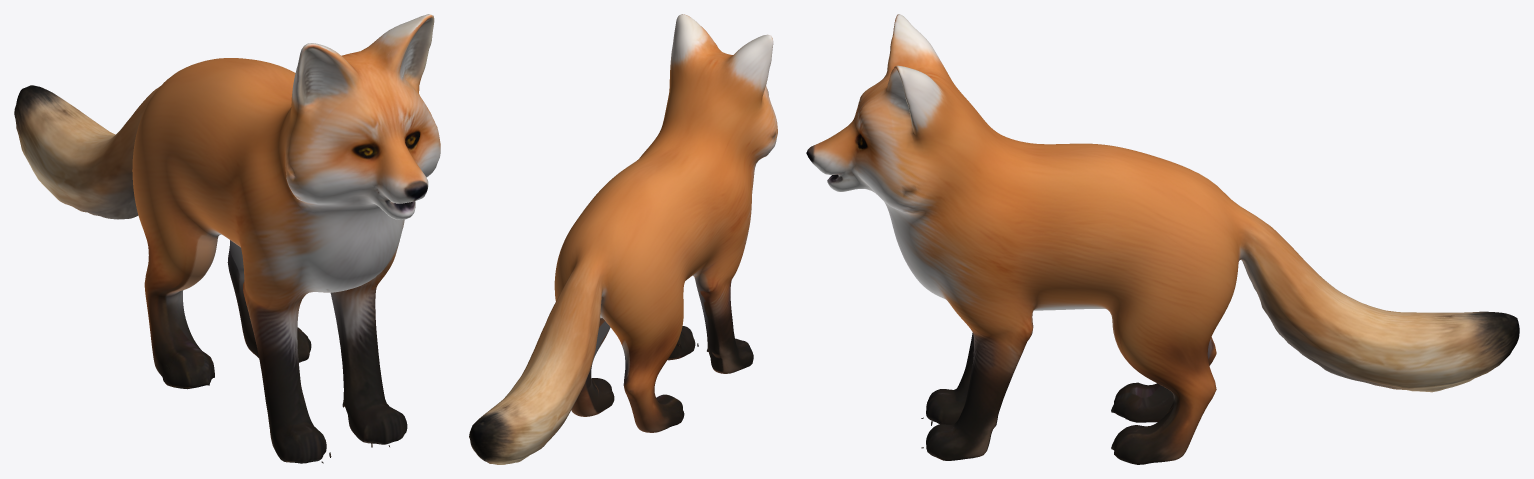
3 renders of one model, left to right at view 1: azimuth 30°, elevation 25°; view 2: azimuth 150°, elevation 25°; view 3: azimuth 270°, elevation 25°, orthographic. The views are drawn at different scales.
Visible parts, largest first — view 1: model_0; view 2: model_0; view 3: model_0.
Boxes of the visible parts, x1,y1,x2,y2 form: model_0: (14,14,440,463); model_0: (469,14,777,464); model_0: (806,14,1519,464).
Size of the model in its own units: 0.4275 by 1.16 by 1.89.
Materials: 1 (1 with a texture image).
